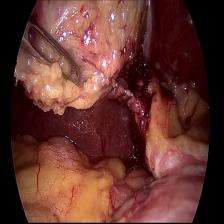Grasper: (17, 16, 87, 85)
